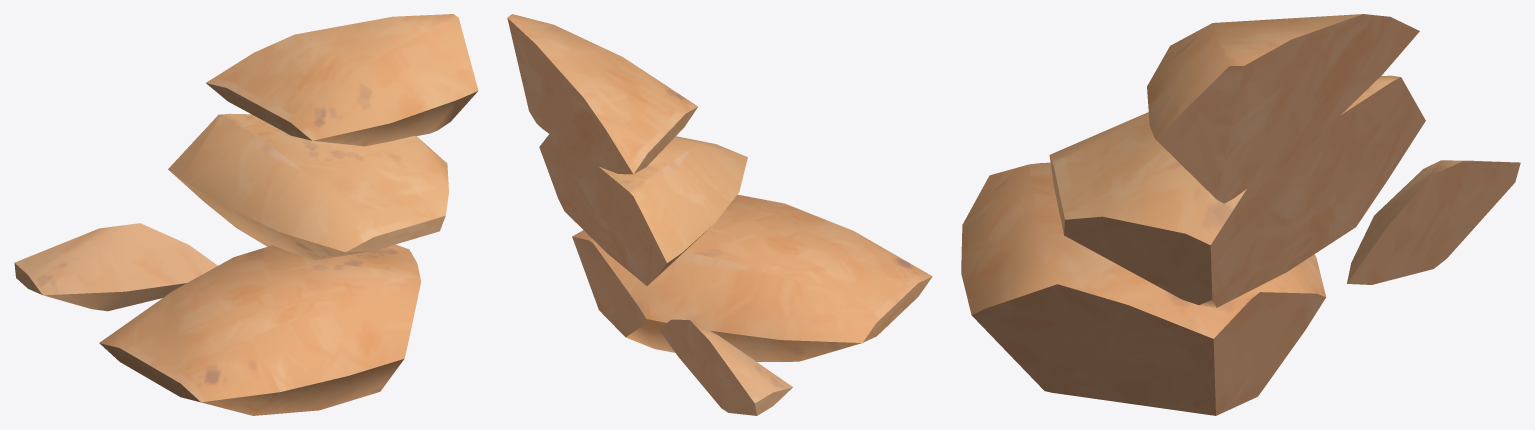
Rendered from sacks_s00.fbx.
The picture shows the model from 3 angles, left to right: view 1: azimuth 30°, elevation 25°; view 2: azimuth 150°, elevation 25°; view 3: azimuth 270°, elevation 25°; orthographic projection. The views are drawn at different scales.
Parts seen in each view (by area): view 1: sacks_s00; view 2: sacks_s00; view 3: sacks_s00.
Boxes of the visible parts, x1,y1,x2,y2 form: sacks_s00: (14,14,478,415); sacks_s00: (507,14,932,415); sacks_s00: (961,14,1520,415).
Size of the model in its own units: 3.15 by 2.48 by 2.95.
